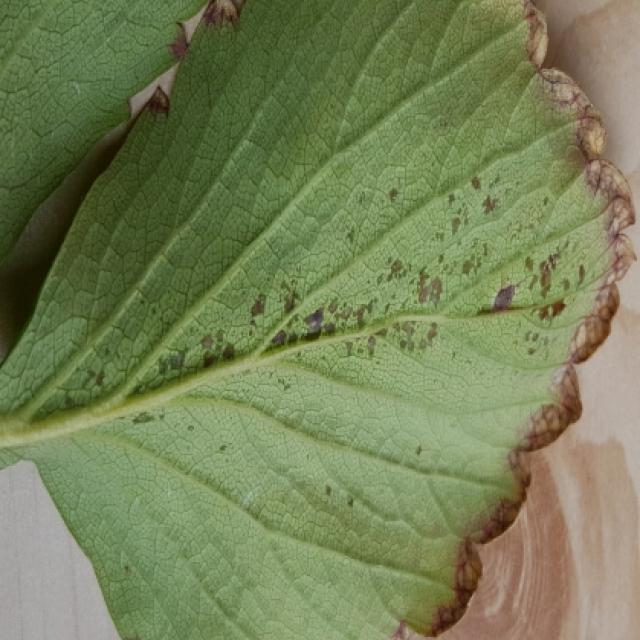Angular Leafspot: (22, 0, 640, 638)
